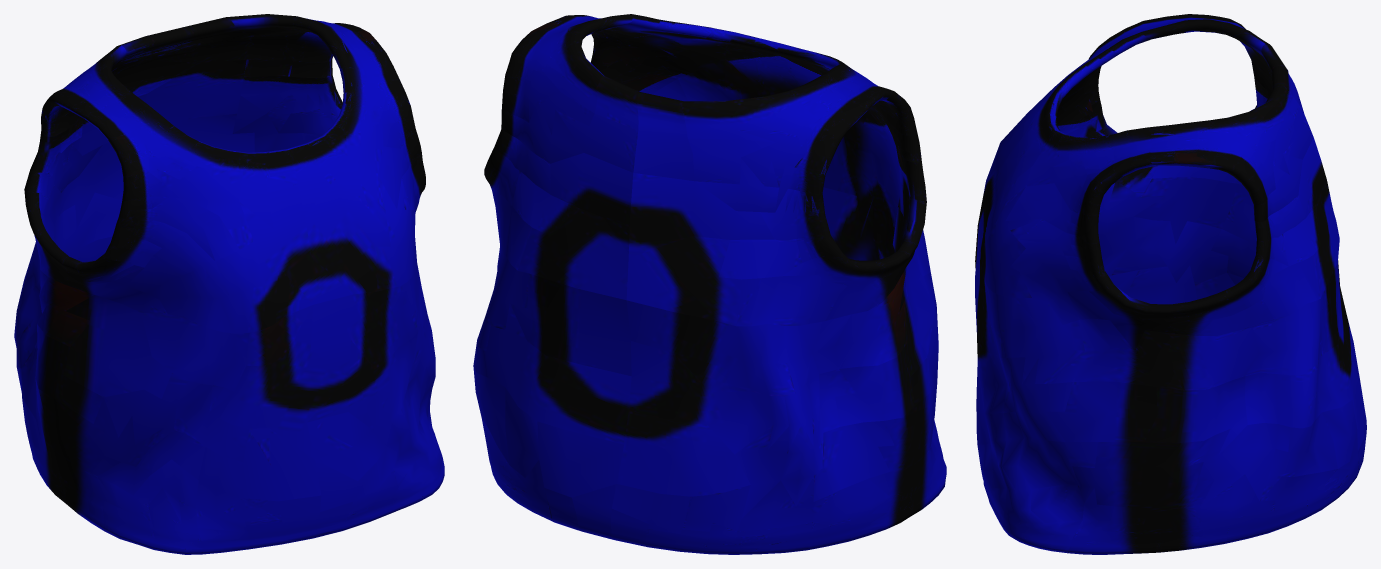
File: Warmup-Blue-Stealth.glb
3 views of the same model, side by side, from view 1: azimuth 30°, elevation 25°; view 2: azimuth 150°, elevation 25°; view 3: azimuth 270°, elevation 25° (orthographic). The views are drawn at different scales.
Parts seen in each view (by area): view 1: Warmup-Blue-Stealth; view 2: Warmup-Blue-Stealth; view 3: Warmup-Blue-Stealth.
Part boxes in pixels (x1,y1,x2,y2): Warmup-Blue-Stealth: (14,14,444,554); Warmup-Blue-Stealth: (473,14,946,554); Warmup-Blue-Stealth: (975,14,1366,554).
Bounding box in the file's own units: 0.3436 × 0.364 × 0.316.
Materials: 1 (1 with a texture image).
